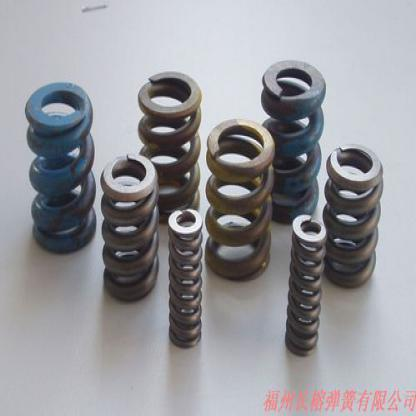FOD: (24, 77, 96, 257), (206, 113, 274, 283), (260, 57, 328, 224), (135, 64, 204, 223), (98, 151, 161, 307), (323, 144, 385, 288), (282, 214, 327, 358), (167, 206, 206, 354)
